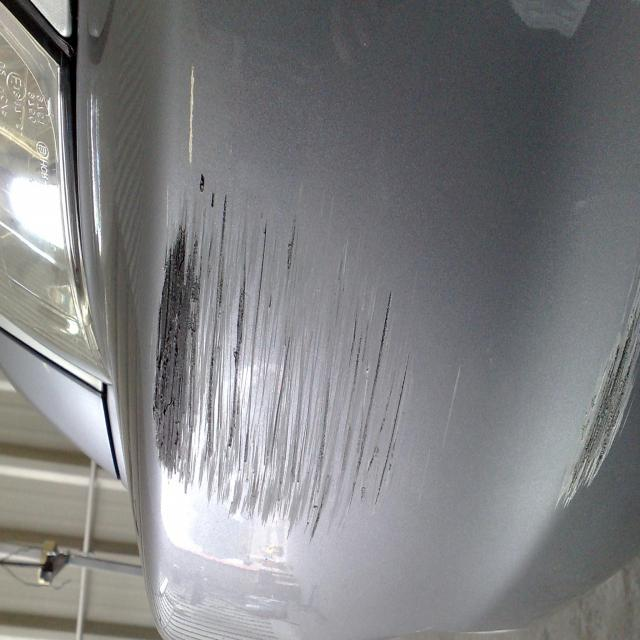scratch: (130, 162, 432, 534), (546, 217, 640, 517)
